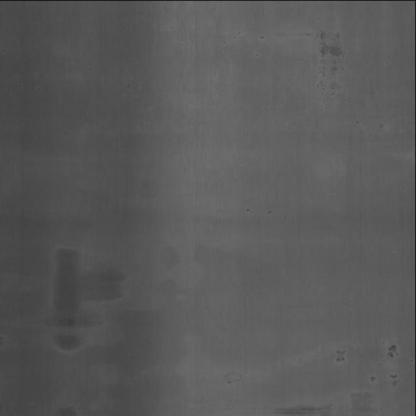water_spot: (312, 12, 346, 79)
